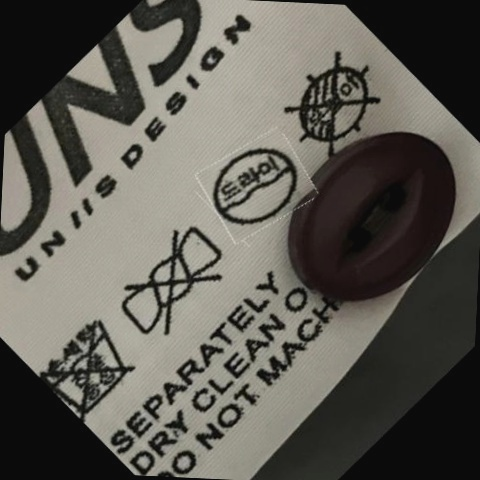DN_dry: (285, 56, 381, 153)
DN_wring: (118, 231, 226, 338)
dry_clean: (214, 142, 299, 232)
hand_wash: (46, 313, 135, 413)
